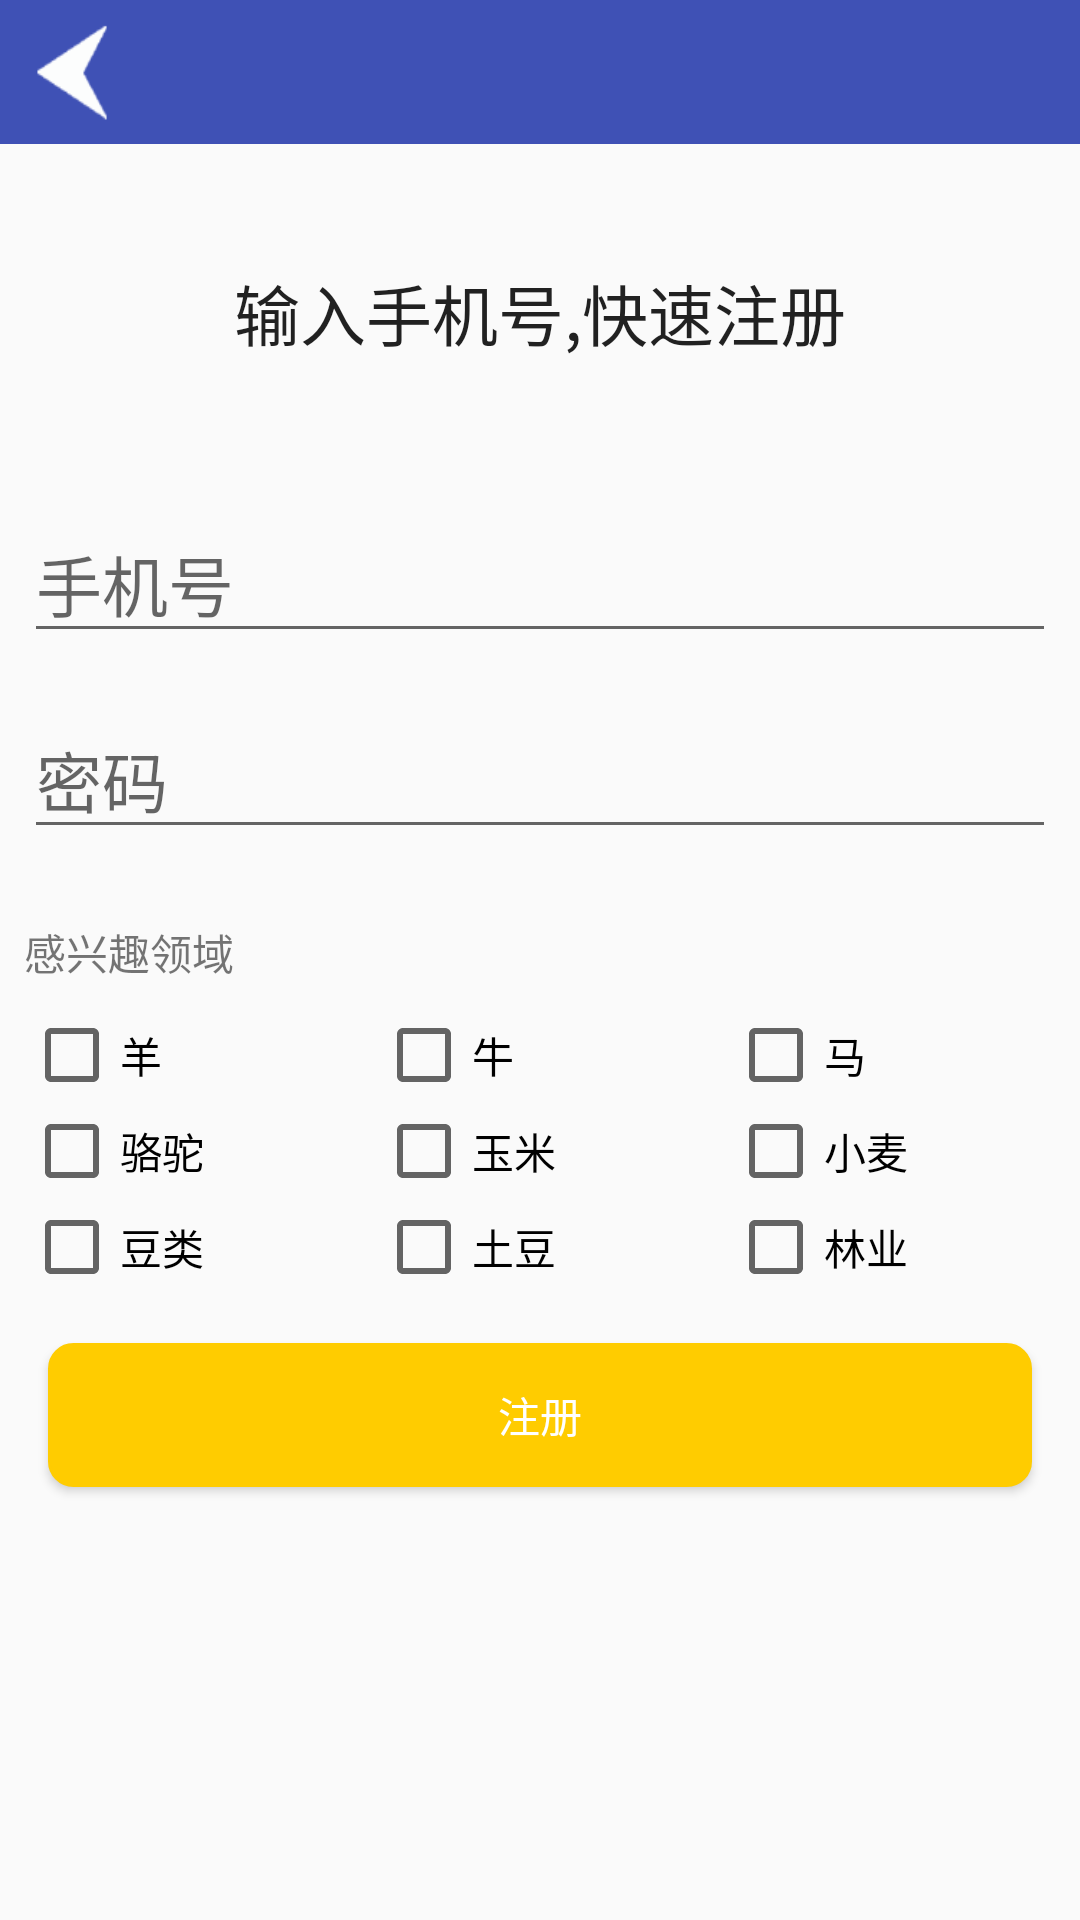

Icon bounding boxes for this 1080px x 1920px phone screenshot, format (x1=x1, y1=y1, x2=x2, y2=y2):
back: (x1=37, y1=26, x2=107, y2=120)
